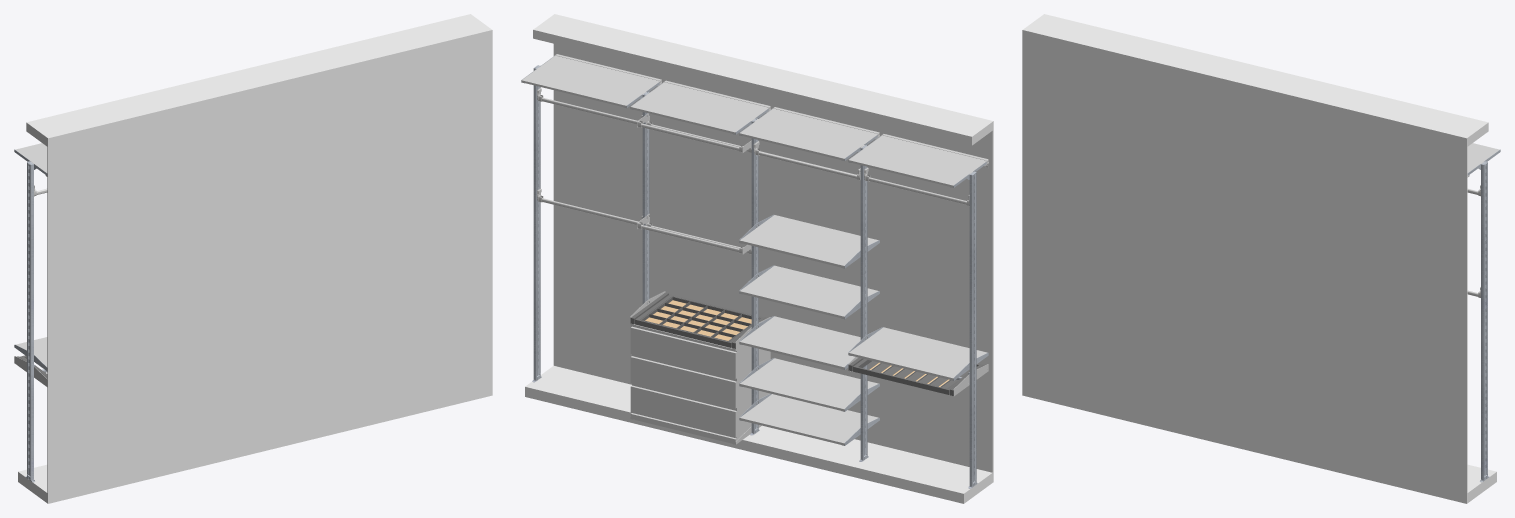
The picture shows the model from 3 angles, left to right: view 1: azimuth 30°, elevation 25°; view 2: azimuth 150°, elevation 25°; view 3: azimuth 330°, elevation 25°; orthographic projection.
Visible parts, largest first — view 1: Geom3D_, Geom3D_组件#2, Geom3D_组件#16; view 2: Geom3D_, Geom3D_组件#15 (×6), Geom3D_组件#16 (×4), Geom3D_组件#4_柜子 copy 002, Geom3D_组件#2 (×5), Geom3D (×3), Geom3D_组件#11_双衣杆 copy 002 (×2), Geom3D_组件#10_单挂衣杆 copy 001 (×2); view 3: Geom3D_, Geom3D_组件#2, Geom3D_组件#16.
Part boxes in pixels (<box>): Geom3D_: <box>18,14,492,503</box>; Geom3D_组件#2: <box>25,161,35,482</box>; Geom3D_组件#16: <box>15,143,47,176</box>; Geom3D_: <box>525,14,993,503</box>; Geom3D_组件#15 (×6): <box>739,215,987,445</box>; Geom3D_组件#16 (×4): <box>521,54,988,187</box>; Geom3D_组件#4_柜子 copy 002: <box>630,324,770,444</box>; Geom3D_组件#2 (×5): <box>532,65,977,488</box>; Geom3D (×3): <box>630,292,985,395</box>; Geom3D_组件#11_双衣杆 copy 002 (×2): <box>637,113,751,254</box>; Geom3D_组件#10_单挂衣杆 copy 001 (×2): <box>753,141,969,205</box>; Geom3D_: <box>1022,14,1496,503</box>; Geom3D_组件#2: <box>1479,161,1489,482</box>; Geom3D_组件#16: <box>1467,143,1499,177</box>.
Bounding box in the file's own units: 3.63 × 2.85 × 0.5216.
Materials: 4 (1 with a texture image).
